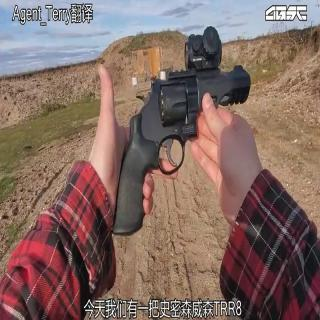gun: (100, 30, 262, 247)
